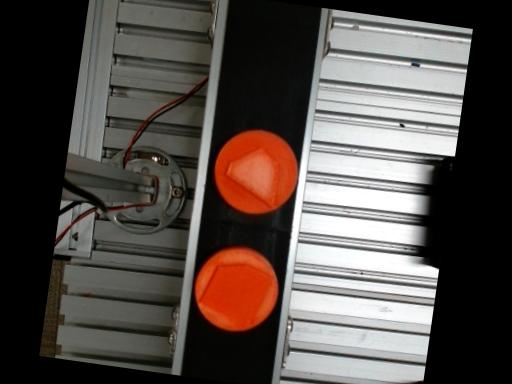Not_Square: (200, 261, 274, 327), (226, 145, 282, 207)
Orange_Waper: (195, 245, 279, 330), (215, 128, 298, 212)
